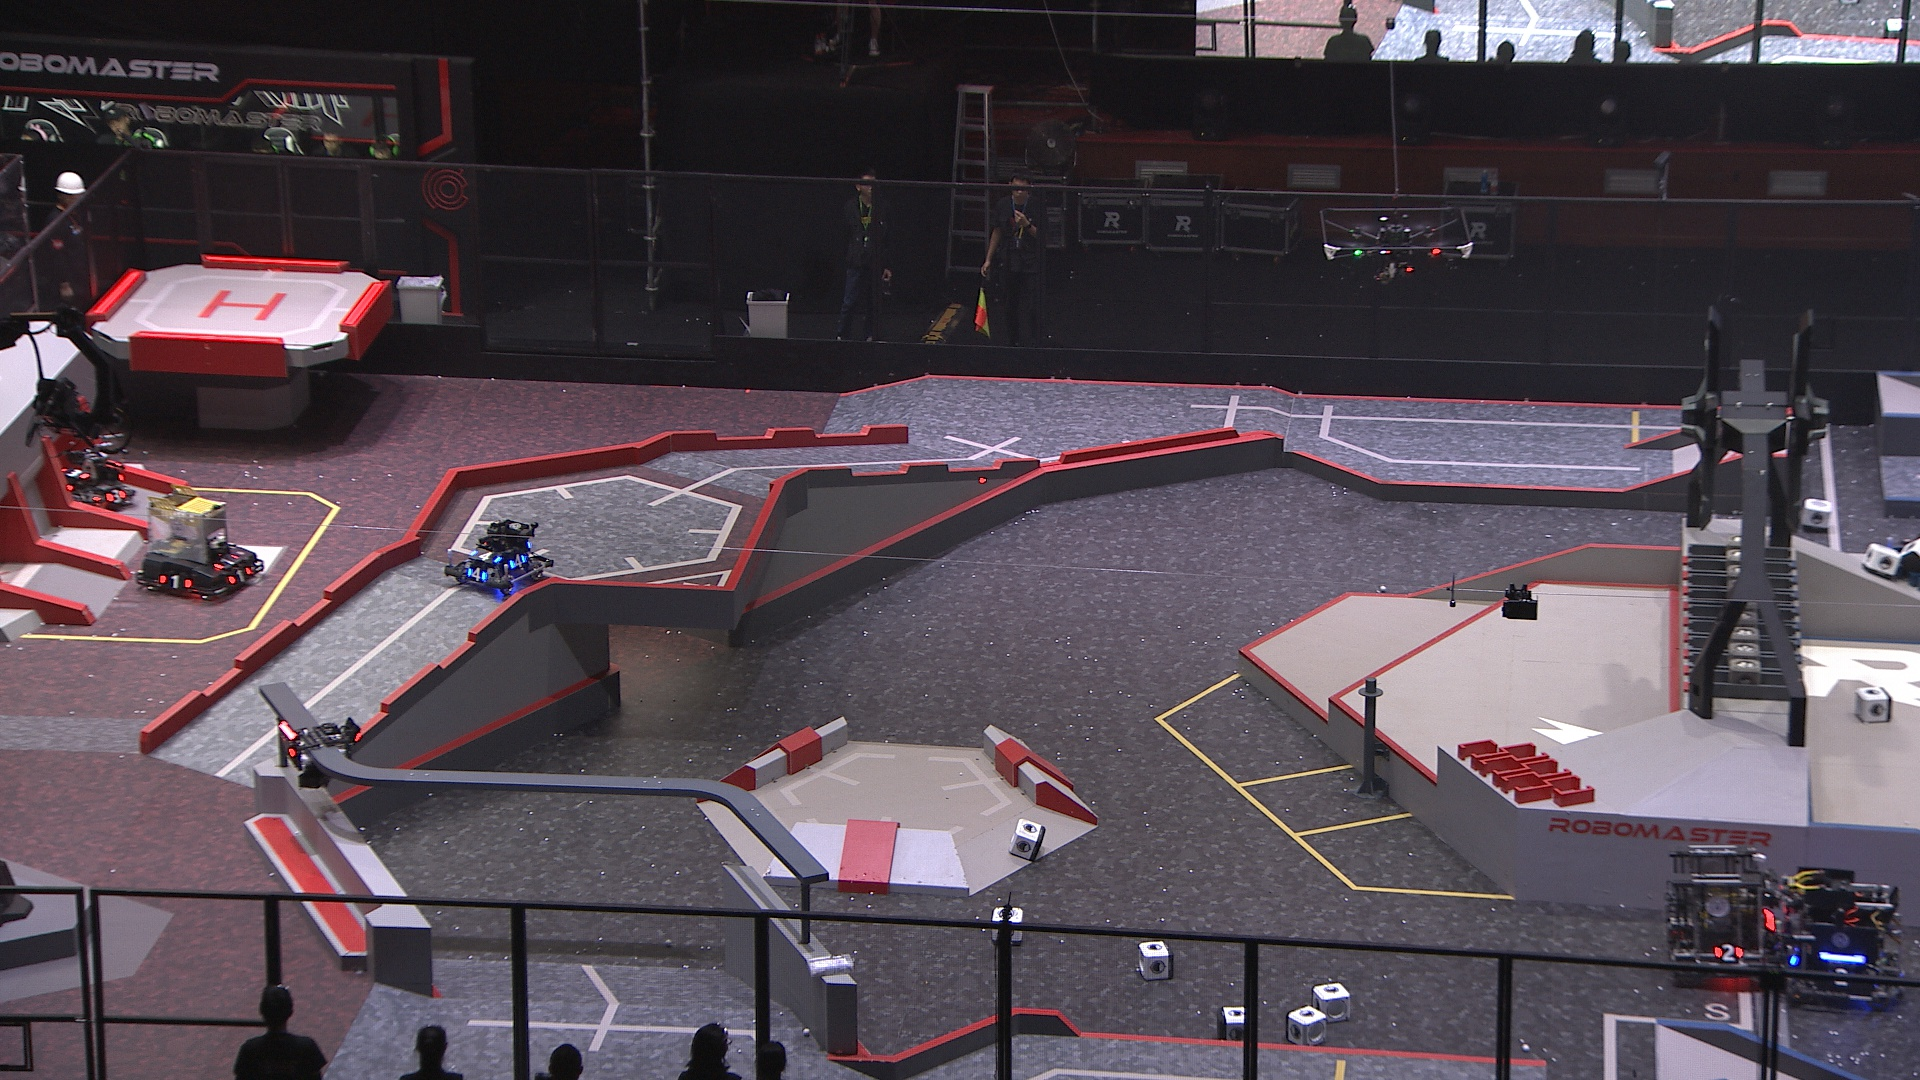armor: (223, 560, 257, 585), (210, 550, 243, 571), (1712, 943, 1745, 963), (156, 574, 193, 591), (1826, 964, 1854, 986), (469, 547, 501, 566), (278, 728, 295, 760), (59, 465, 91, 481), (103, 484, 128, 504), (506, 553, 527, 574), (463, 564, 487, 583)
car: (1774, 864, 1909, 1010), (1664, 843, 1776, 986), (135, 493, 268, 604), (442, 514, 560, 604), (47, 433, 138, 513)
watcher: (273, 713, 363, 789)
